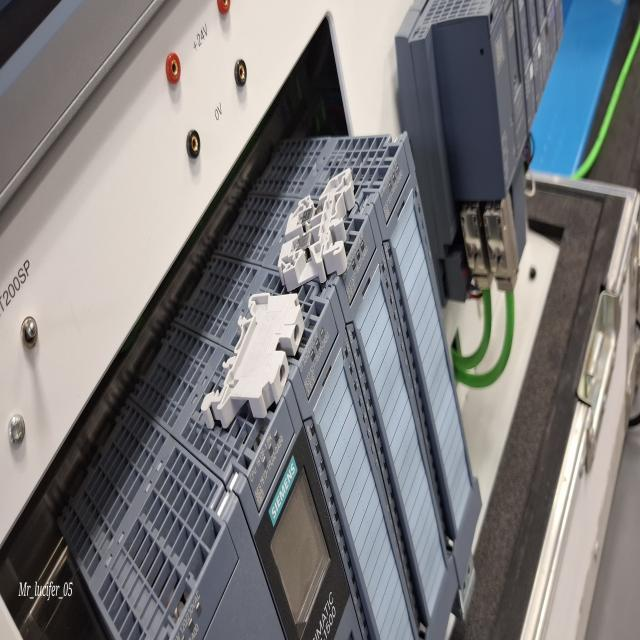Inverted: (194, 244, 306, 434)
Pass: (268, 156, 360, 292)
